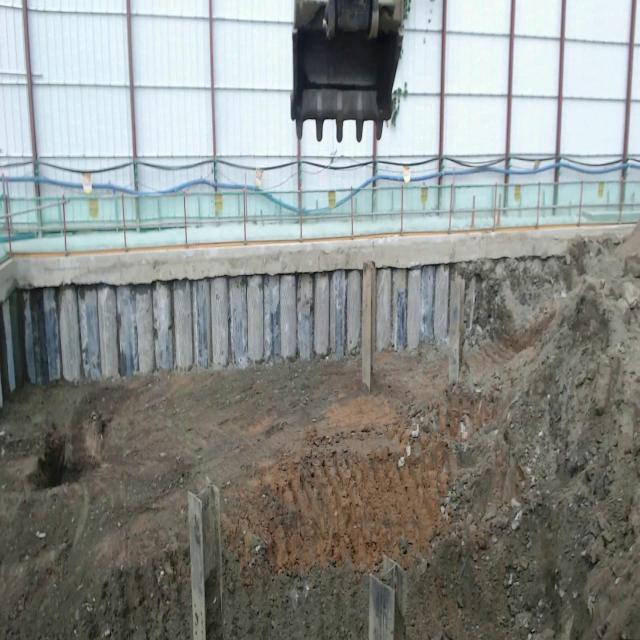red-sand: (0, 354, 449, 639)
white-sand: (410, 225, 640, 639)
